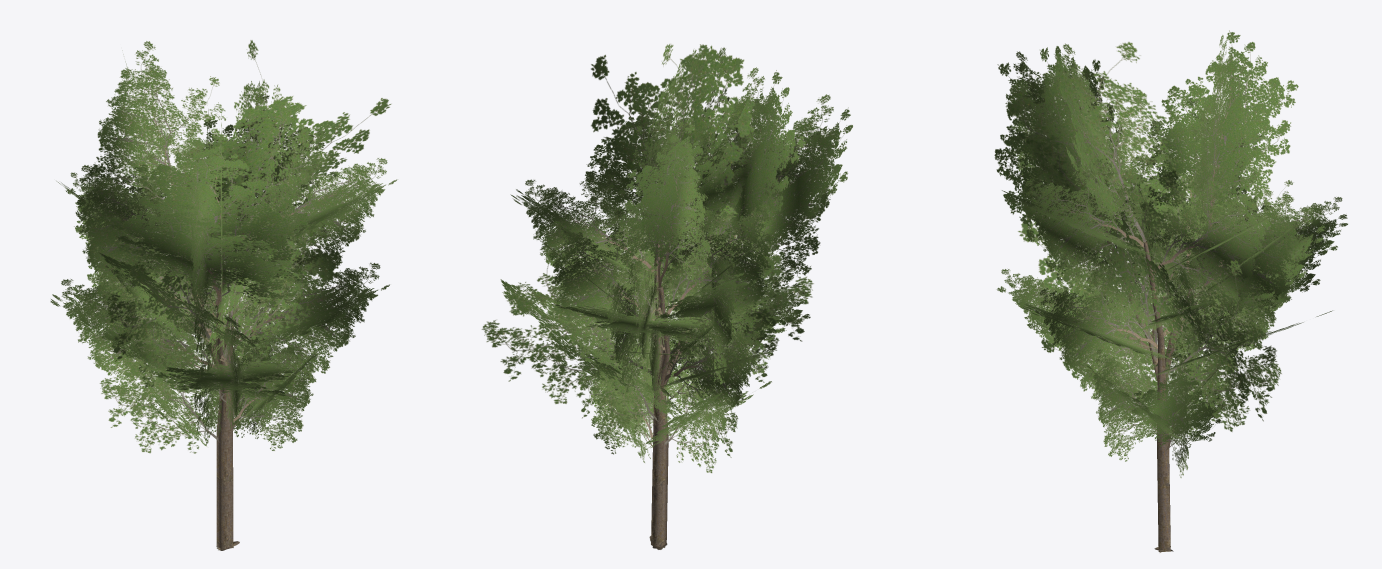
The model's file is Platane.glb.
The picture shows the model from 3 angles, left to right: view 1: azimuth 30°, elevation 25°; view 2: azimuth 150°, elevation 25°; view 3: azimuth 270°, elevation 25°; orthographic projection. The views are drawn at different scales.
Parts seen in each view (by area): view 1: mesh; view 2: mesh; view 3: mesh.
Part boxes in pixels (x1,y1,x2,y2): mesh: (50,40,397,550); mesh: (481,44,852,549); mesh: (994,30,1347,552).
Size of the model in its own units: 21.18 by 30.84 by 22.59.
1 material, 1 textured.
